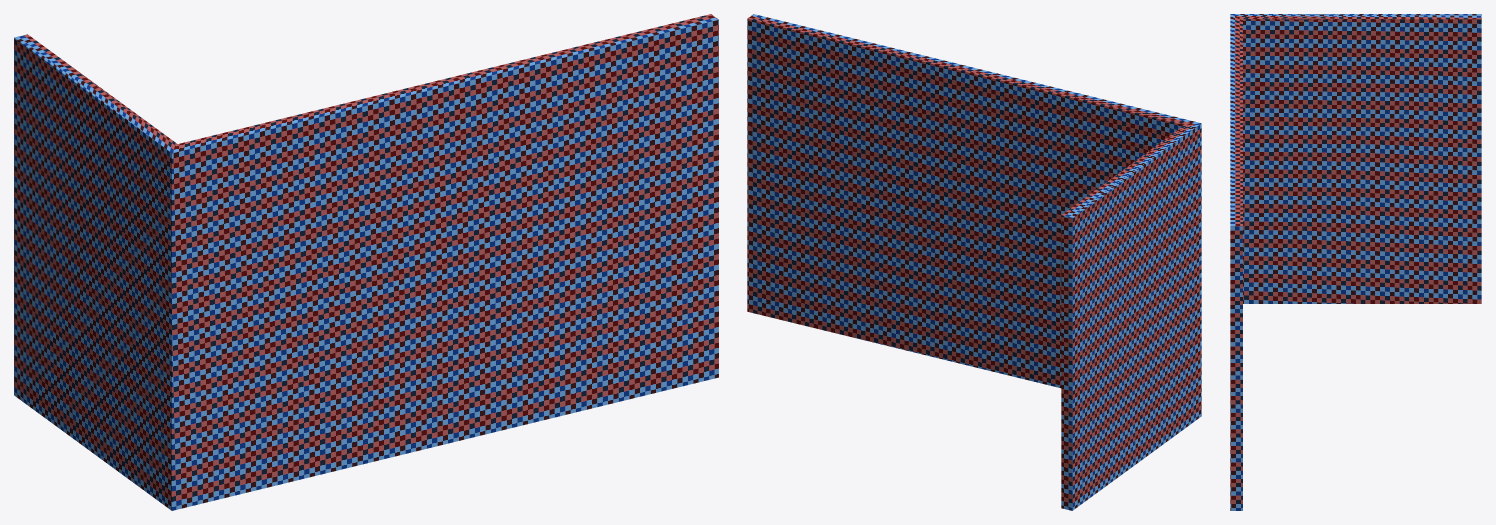
File: Smallwall_turnWithHalf_TurnV2_02.fbx
3 views of the same model, side by side, from view 1: azimuth 30°, elevation 25°; view 2: azimuth 150°, elevation 25°; view 3: azimuth 270°, elevation 25° (orthographic). The views are drawn at different scales.
Parts seen in each view (by area): view 1: Smallwall_turnWithHalf_TurnV2_02; view 2: Smallwall_turnWithHalf_TurnV2_02; view 3: Smallwall_turnWithHalf_TurnV2_02.
Boxes of the visible parts, x1=… form: Smallwall_turnWithHalf_TurnV2_02: x1=14, y1=14, x2=718, y2=510; Smallwall_turnWithHalf_TurnV2_02: x1=747, y1=14, x2=1201, y2=510; Smallwall_turnWithHalf_TurnV2_02: x1=1230, y1=14, x2=1481, y2=510.
Bounding box in the file's own units: 400 × 250 × 200.
1 material, 1 textured.
